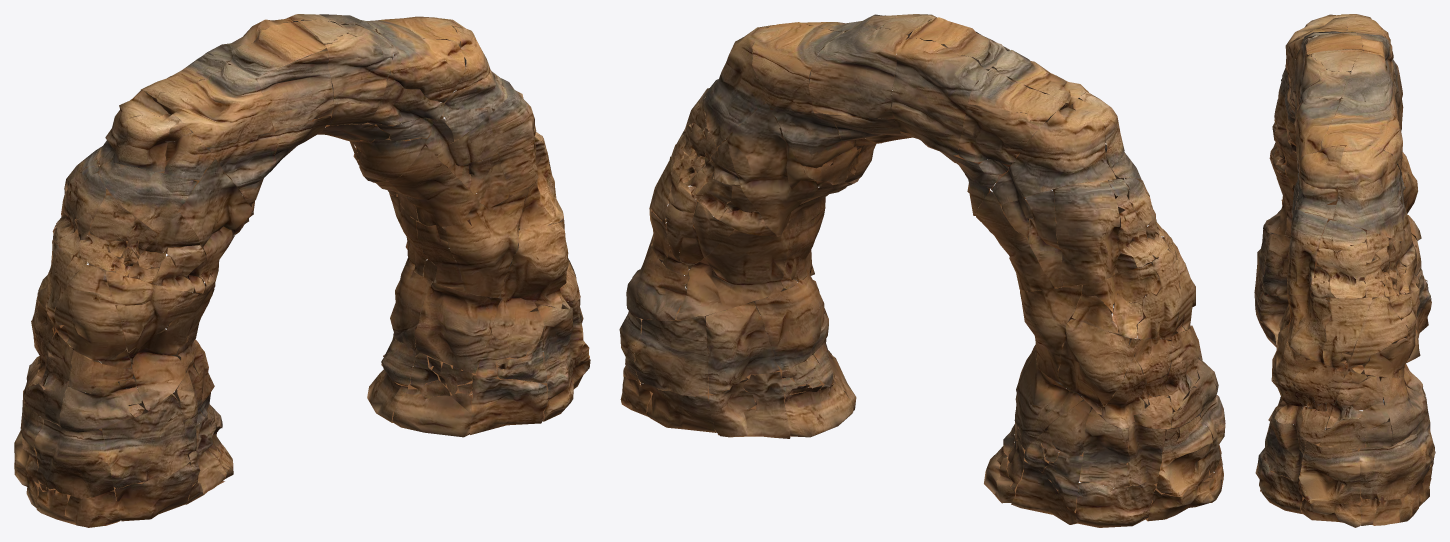
Rendered from rock-arch.glb.
The picture shows the model from 3 angles, left to right: view 1: azimuth 30°, elevation 25°; view 2: azimuth 150°, elevation 25°; view 3: azimuth 270°, elevation 25°; orthographic projection. The views are drawn at different scales.
Visible parts, largest first — view 1: mesh_node; view 2: mesh_node; view 3: mesh_node.
Boxes of the visible parts, x1,y1,x2,y2 form: mesh_node: [14, 14, 590, 527]; mesh_node: [619, 14, 1225, 527]; mesh_node: [1254, 14, 1435, 527].
Size of the model in its own units: 7.1 by 5 by 2.27.
1 material, 1 textured.
